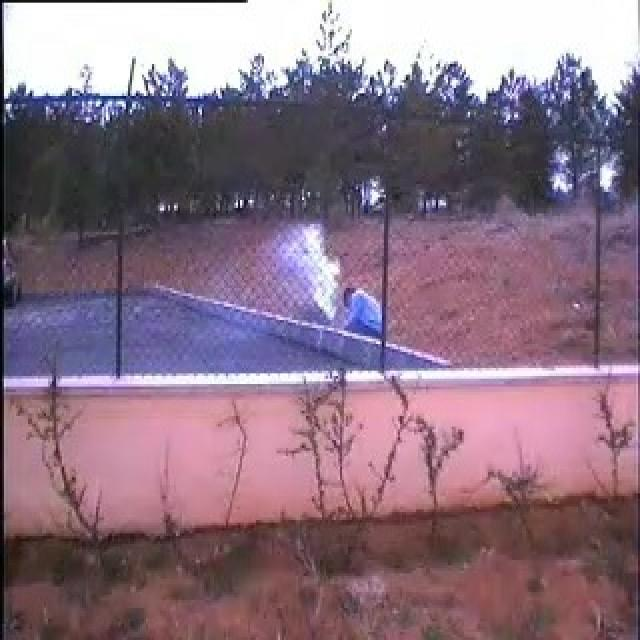smoke: (269, 219, 345, 324)
